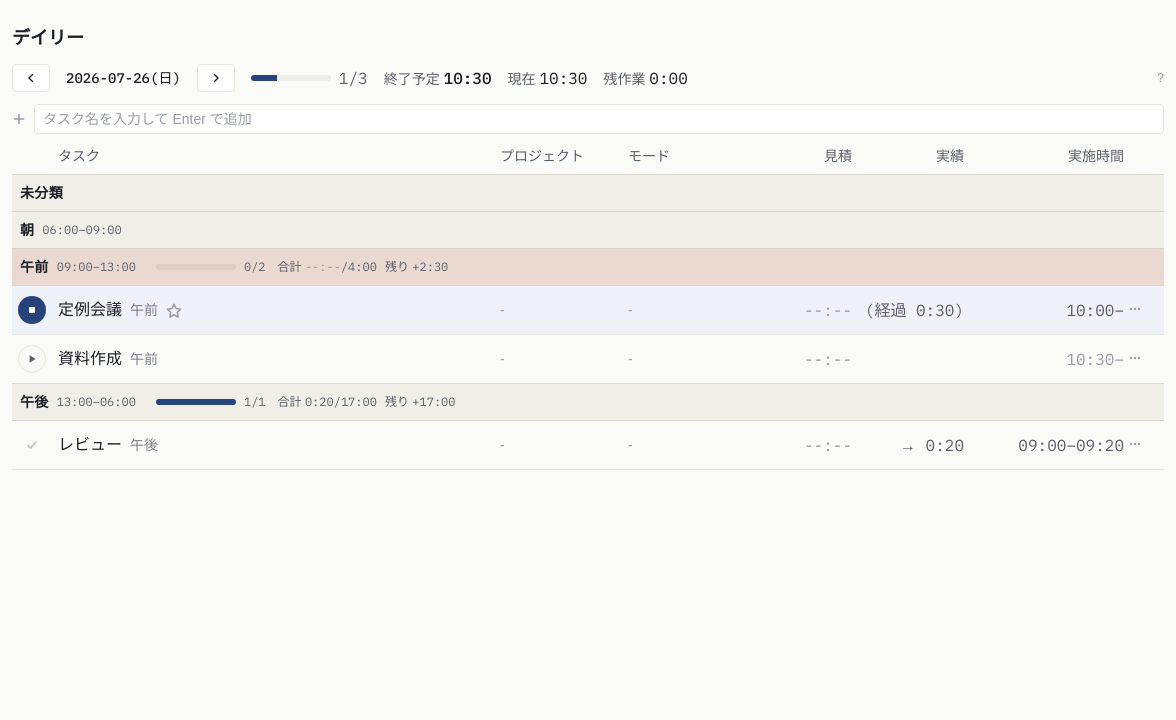
DailyBoard のインライン編集の検証（§8 / 00_共通 §2.3） › 未実行タスクへのまとめての入力が拒まれたら、未実行・元の位置へ戻す（00_共通 §4.1）
The image size is (1176, 720).
Click the row "資料作成" at (588, 359), box x1=12 y1=334 x2=1164 y2=384
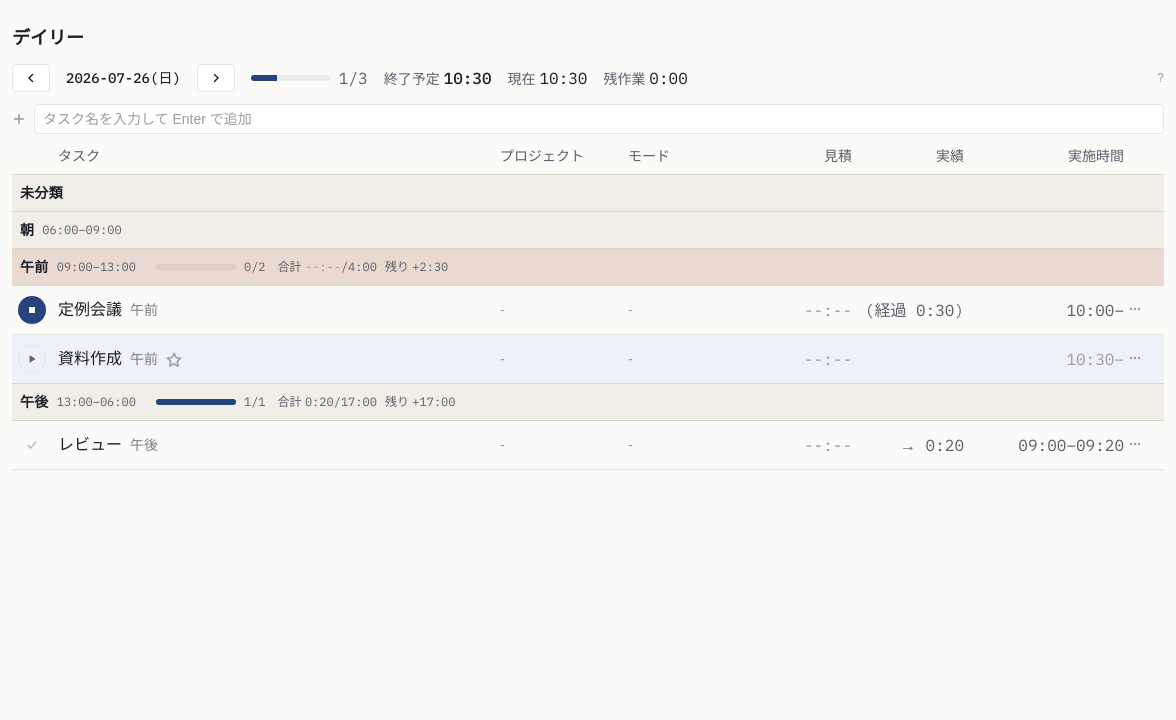
Press b
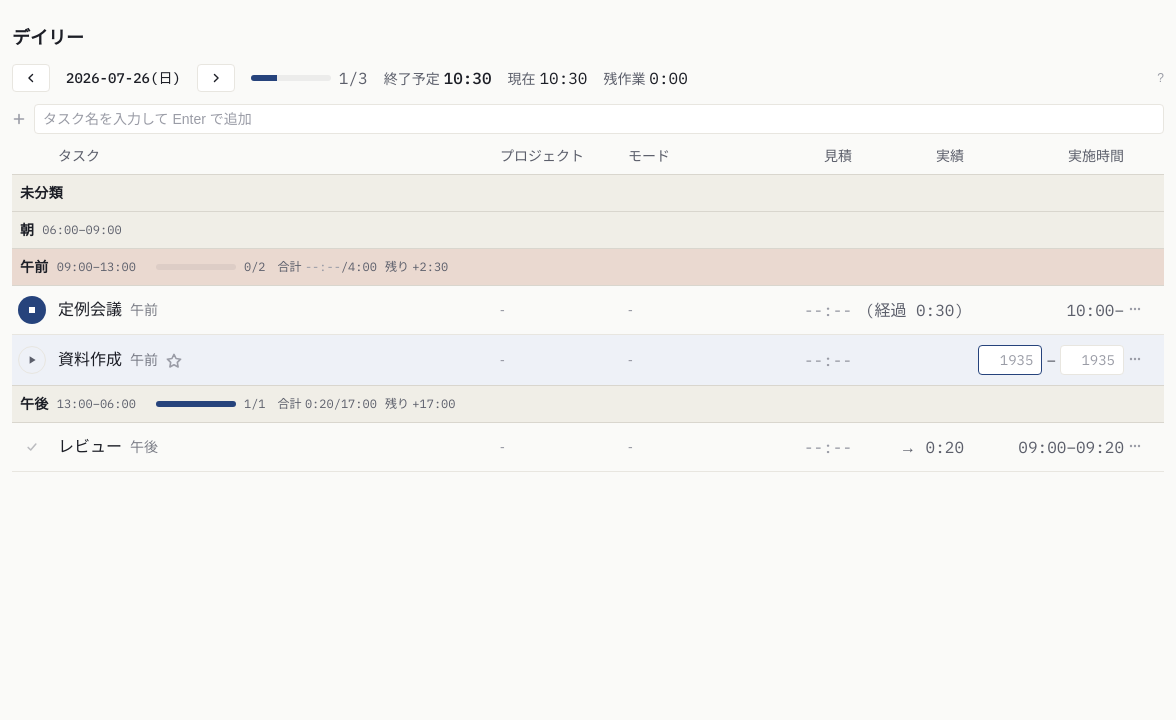
Type "0900" into the field named "開始時刻" at (1010, 360), box x1=978 y1=345 x2=1042 y2=375
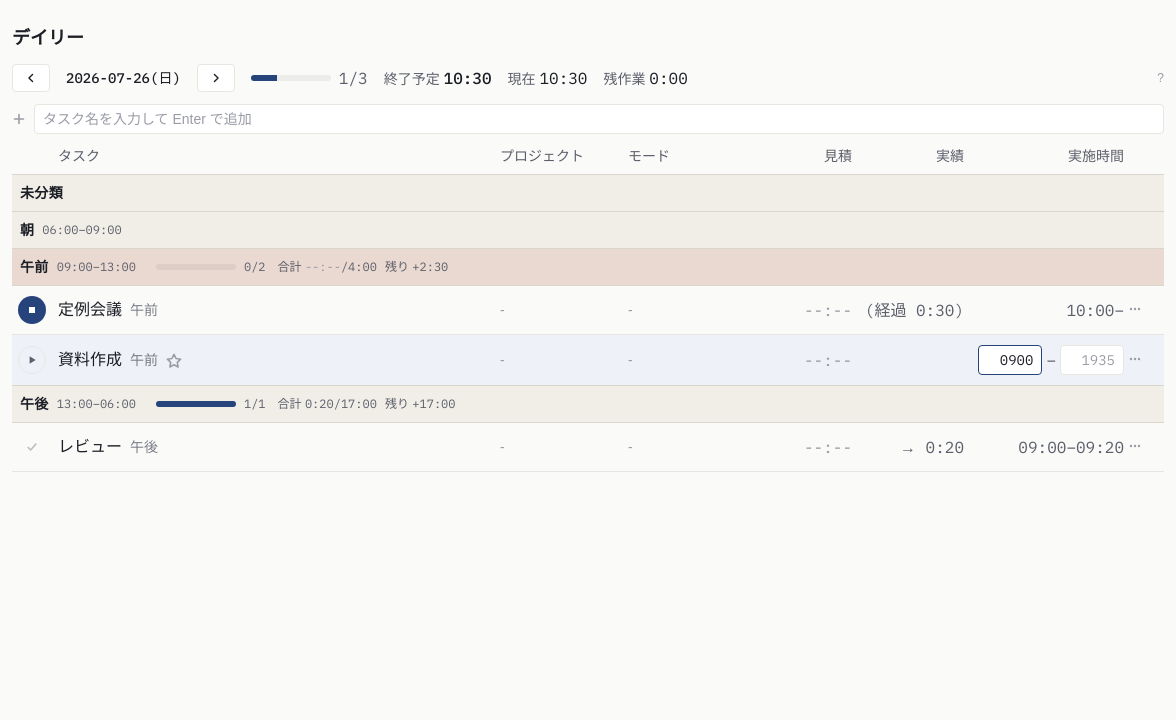
Type "0915" into the field named "終了時刻" at (1092, 360), box x1=1060 y1=345 x2=1124 y2=375
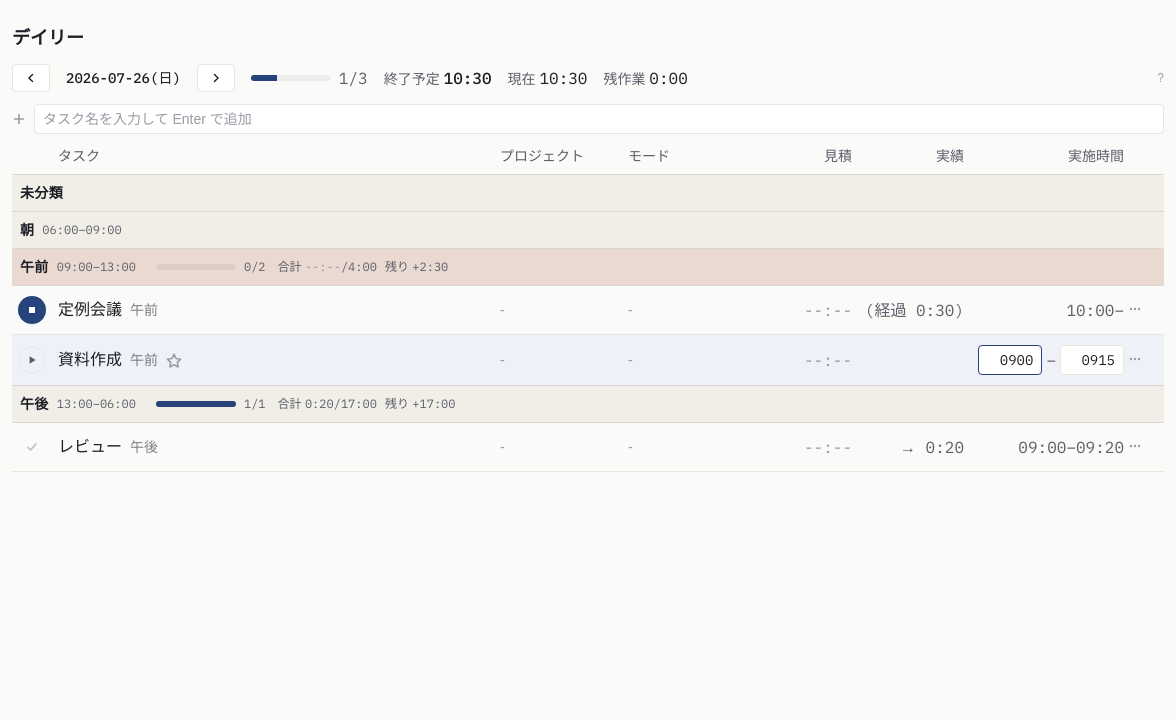
Press Enter in the field named "終了時刻", box x1=1060 y1=345 x2=1124 y2=375
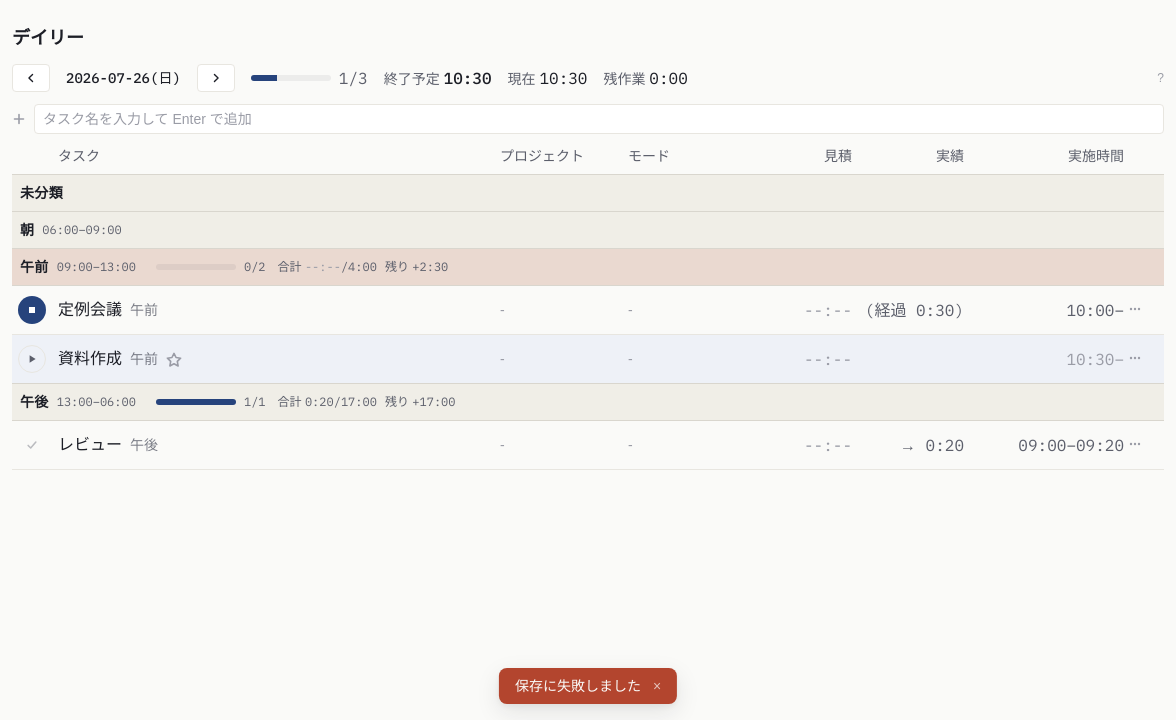
Expected: the button named "開始" is shown, x1=18 y1=345 x2=46 y2=373
Result: the text "保存に失敗しました" is shown at x1=515 y1=676 x2=641 y2=696
